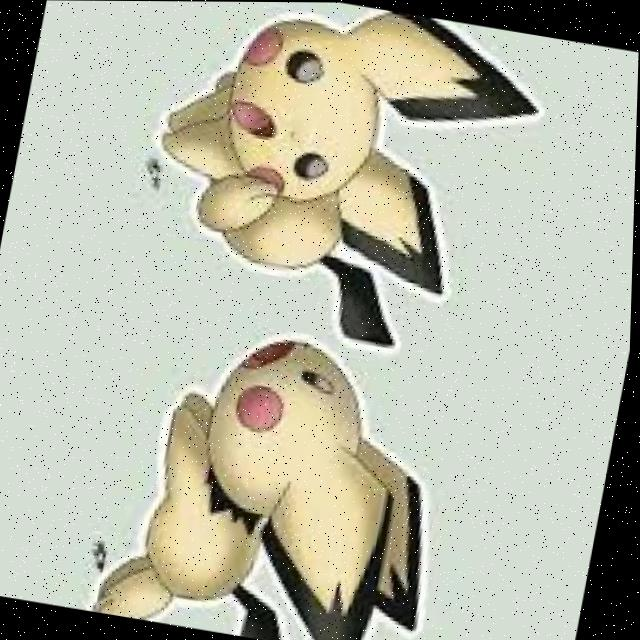pichu: (141, 1, 542, 328), (96, 309, 465, 640)
